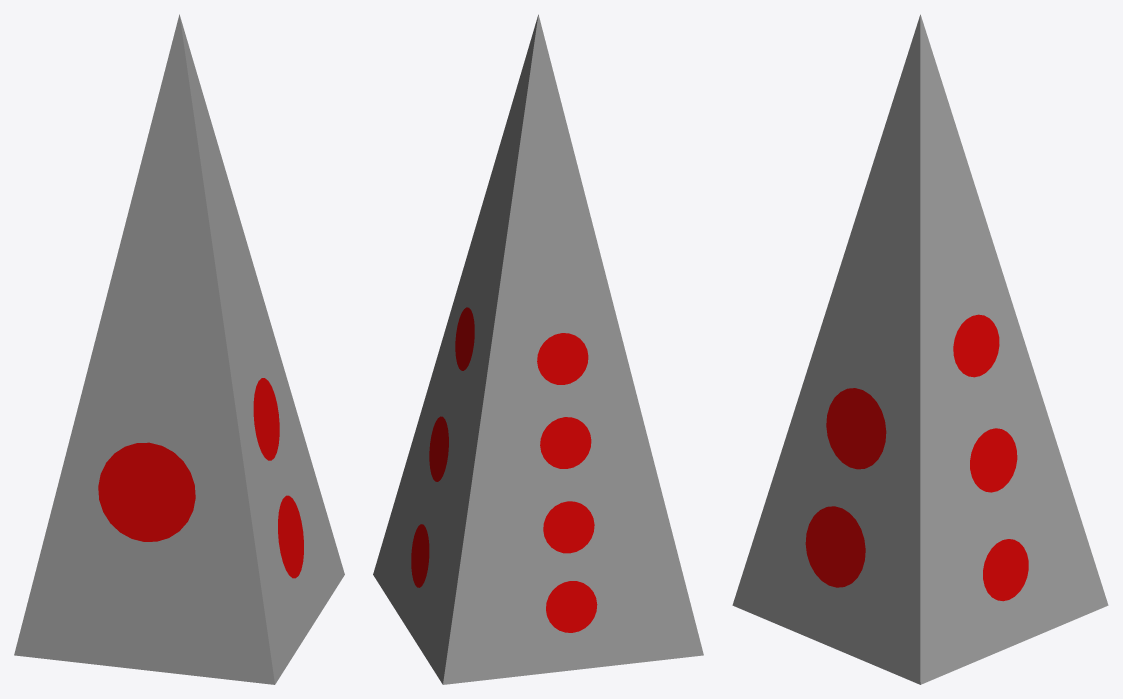
Rendered from TriDice.fbx.
3 renders of one model, left to right at view 1: azimuth 30°, elevation 25°; view 2: azimuth 150°, elevation 25°; view 3: azimuth 270°, elevation 25°, orthographic.
Visible parts, largest first — view 1: pDisc14; view 2: pDisc14; view 3: pDisc14.
Part boxes in pixels (<box>): pDisc14: <box>14,14,344,684</box>; pDisc14: <box>373,14,703,684</box>; pDisc14: <box>732,14,1108,684</box>.
Bounding box in the file's own units: 0.9059 × 1.57 × 0.9059.
